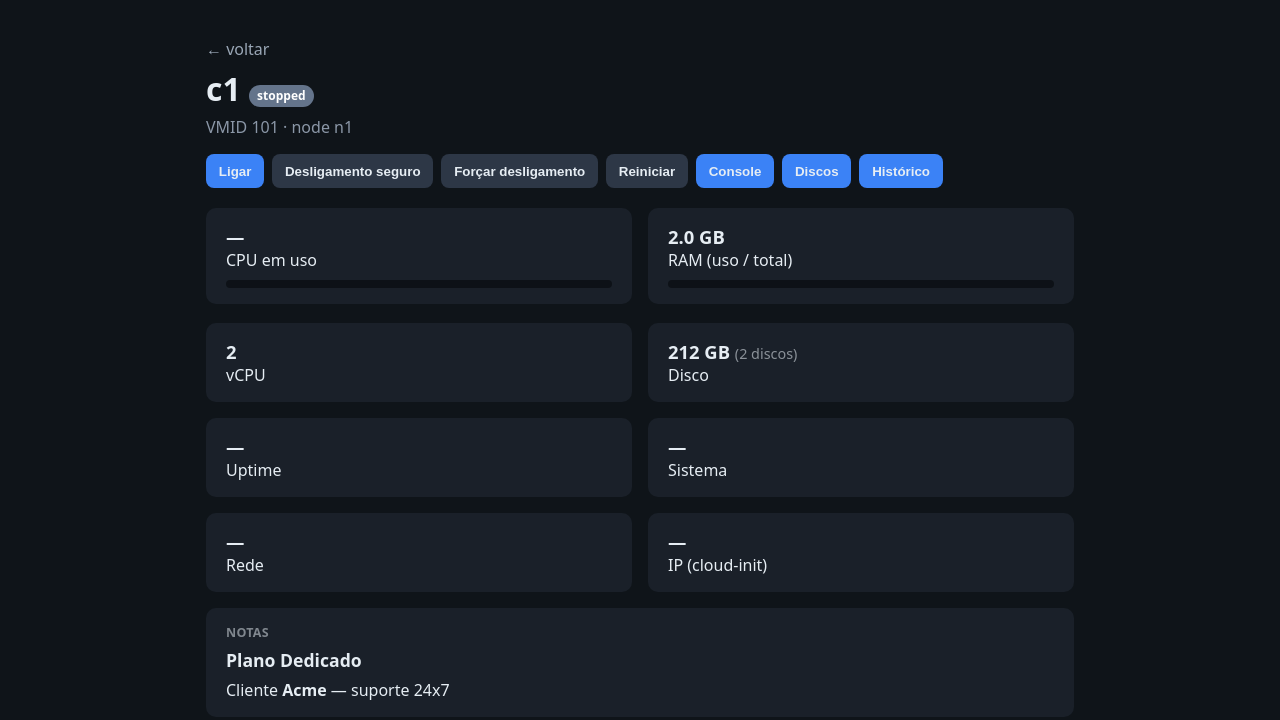
Test: VmDetail › cancelar não dispara a ação e fecha o diálogo
Expected: the heading "c1 stopped" is shown, x1=206 y1=67 x2=314 y2=110
Click the button "Reiniciar": (647, 171) x1=606 y1=154 x2=688 y2=188
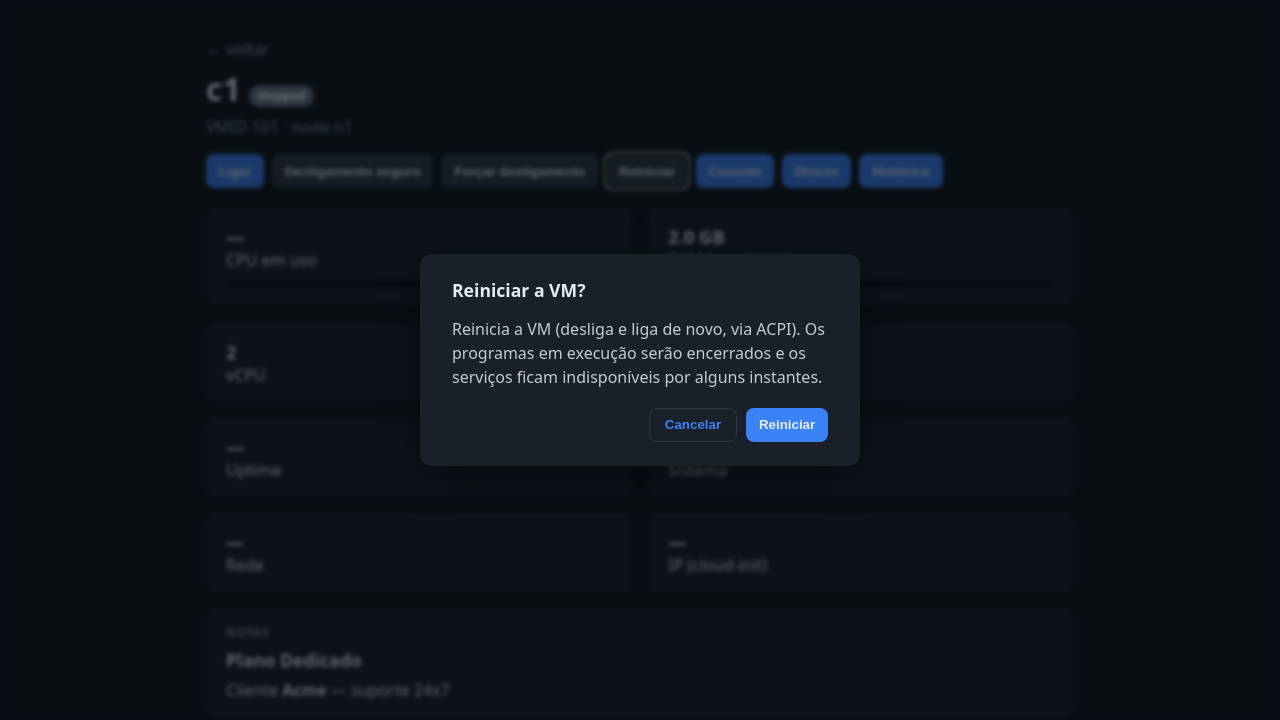
Click the button "Cancelar": (693, 425) x1=649 y1=408 x2=736 y2=442
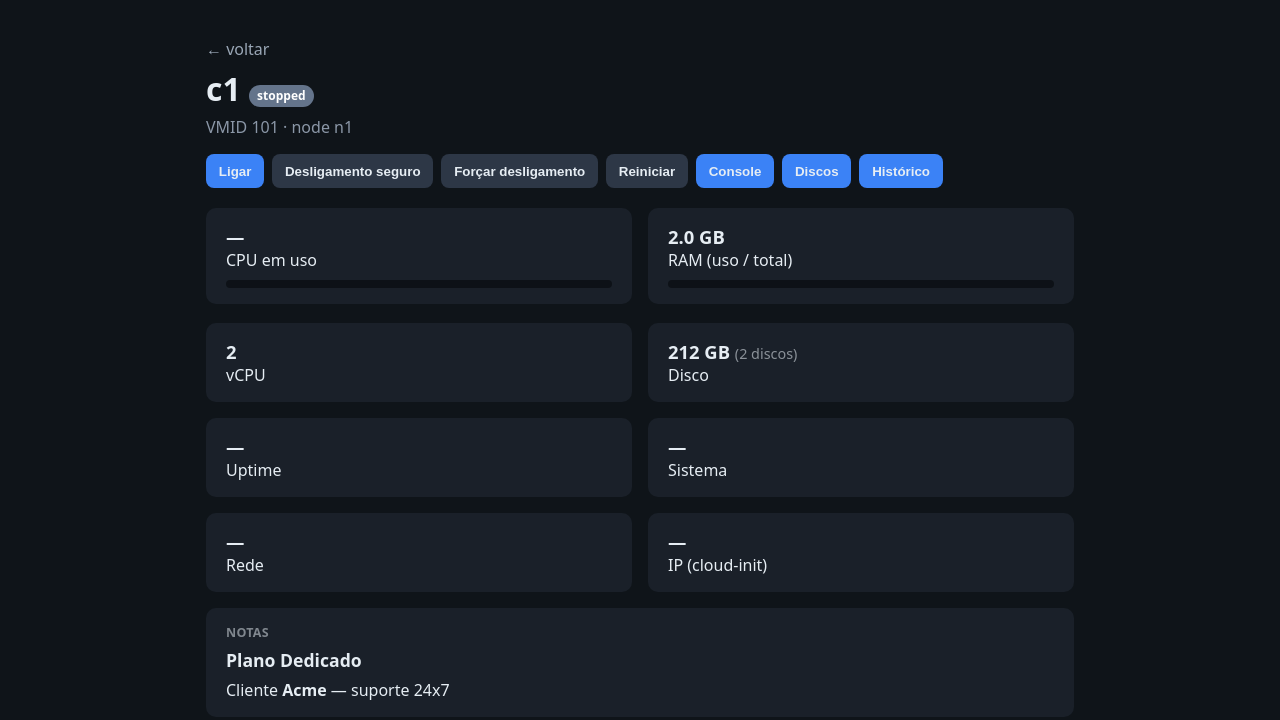
Now the dialog is gone
